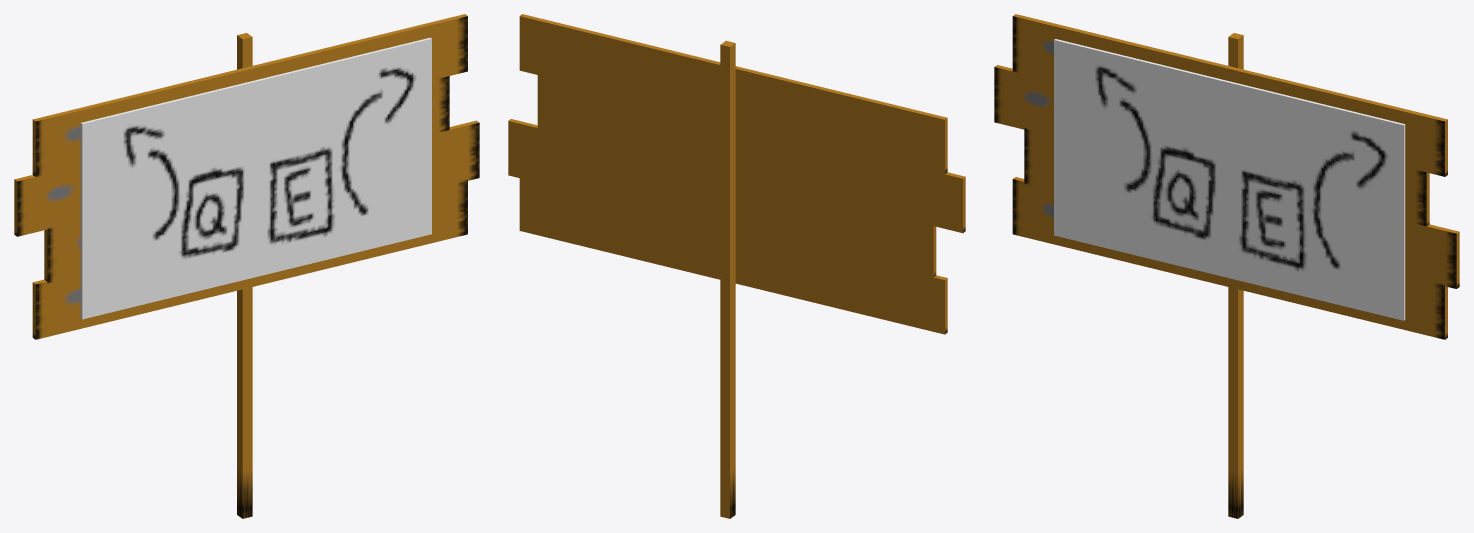
Rendered from SignExp01.fbx.
3 renders of one model, left to right at view 1: azimuth 30°, elevation 25°; view 2: azimuth 150°, elevation 25°; view 3: azimuth 330°, elevation 25°, orthographic.
Visible parts, largest first — view 1: pCube8; view 2: pCube8; view 3: pCube8.
Part boxes in pixels (left/top/right/bottom): pCube8: left=14, top=14, right=479, bottom=518; pCube8: left=508, top=14, right=965, bottom=518; pCube8: left=994, top=14, right=1459, bottom=518.
Bounding box in the file's own units: 527 × 523 × 24.87.
